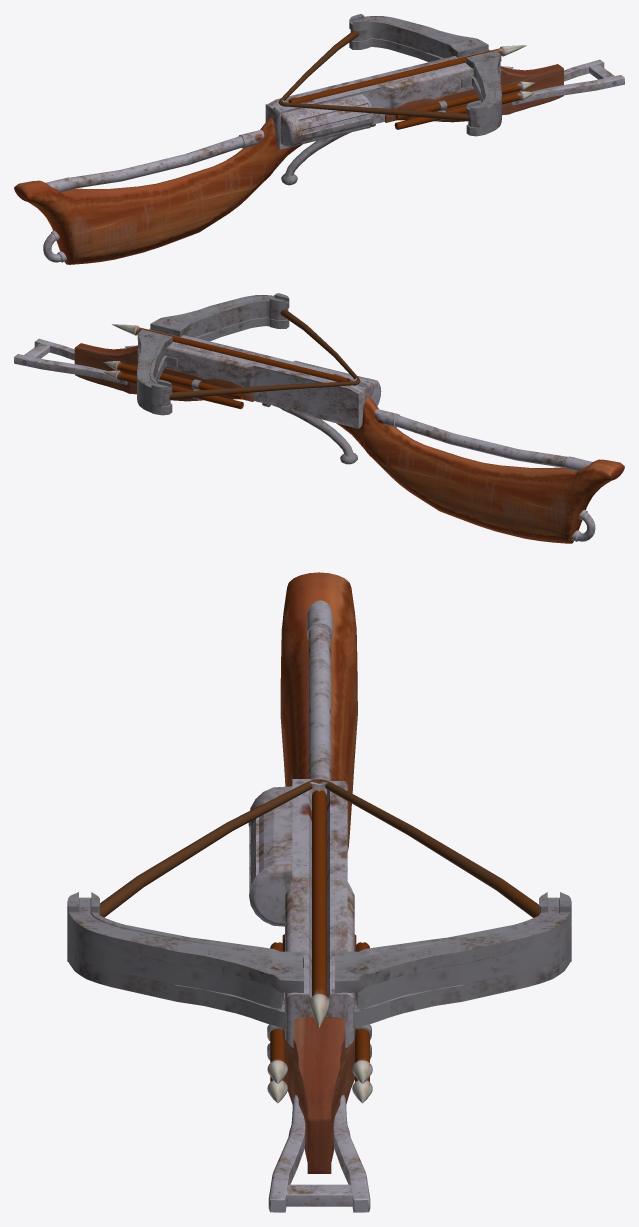
Rendered from stocked_crossbow.glb.
3 renders of one model, top to bottom at view 1: azimuth 30°, elevation 25°; view 2: azimuth 150°, elevation 25°; view 3: azimuth 270°, elevation 25°, orthographic. The views are drawn at different scales.
Visible parts, largest first — view 1: stocked_crossbow; view 2: stocked_crossbow; view 3: stocked_crossbow.
Boxes of the visible parts, x1,y1,x2,y2 form: stocked_crossbow: (14, 14, 624, 264); stocked_crossbow: (14, 293, 624, 543); stocked_crossbow: (67, 572, 571, 1212).
Size of the model in its own units: 0.82 by 0.1629 by 0.3027.
Materials: 1 (1 with a texture image).
